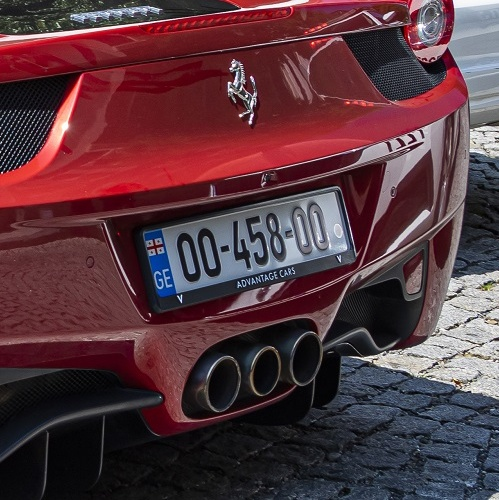plaka: (140, 181, 359, 319)
